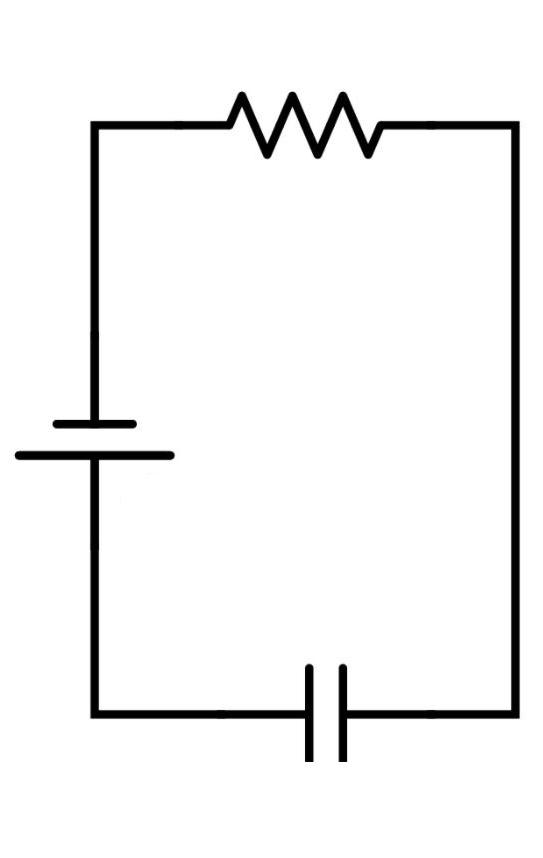resistor: (164, 63, 442, 234)
